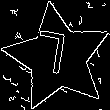L_S: (38, 31, 77, 85)
